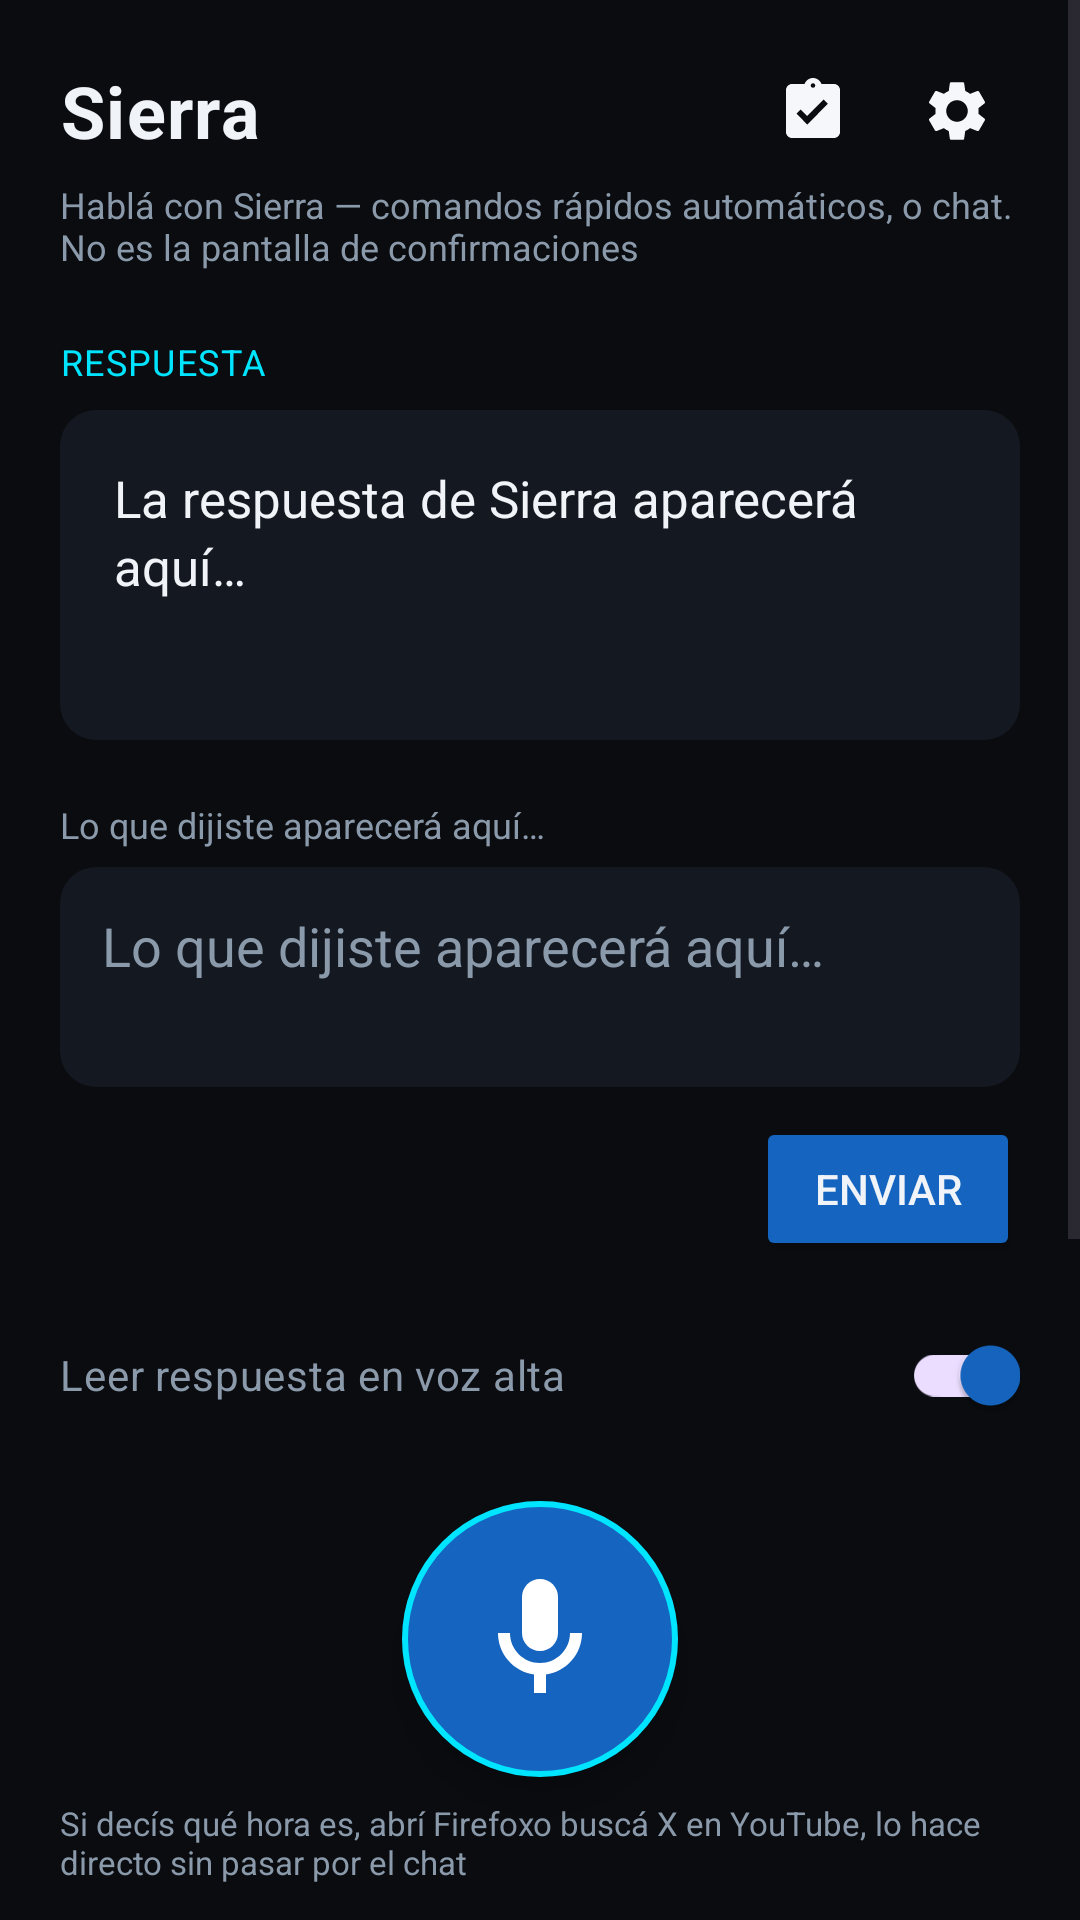

Where to tap for icons on this 1080px x 1920px app screen, as (x,y):
Ajustes de conexión: (957,111)
Confirmaciones pendientes: (813,108)
Hablar: (540,1639)
